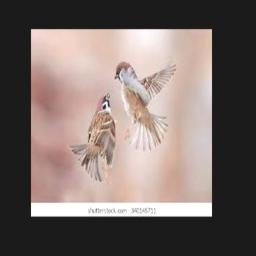Sparrow: (114, 62, 177, 152), (67, 92, 115, 181)
